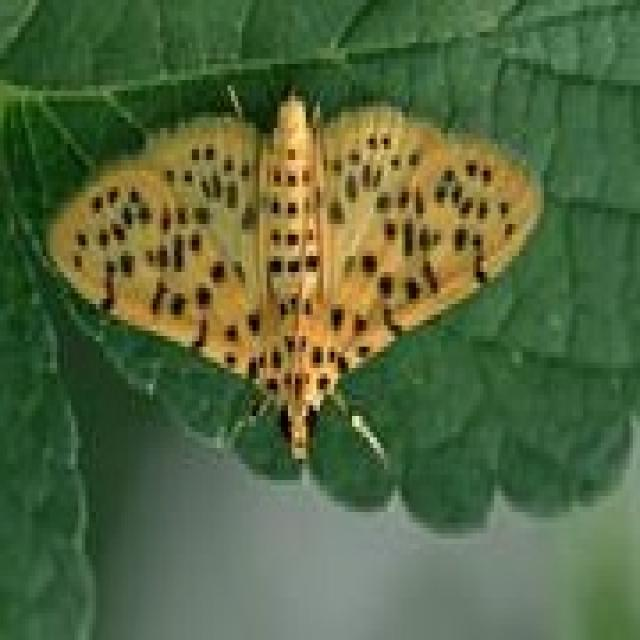peach borer: (38, 84, 547, 473)
